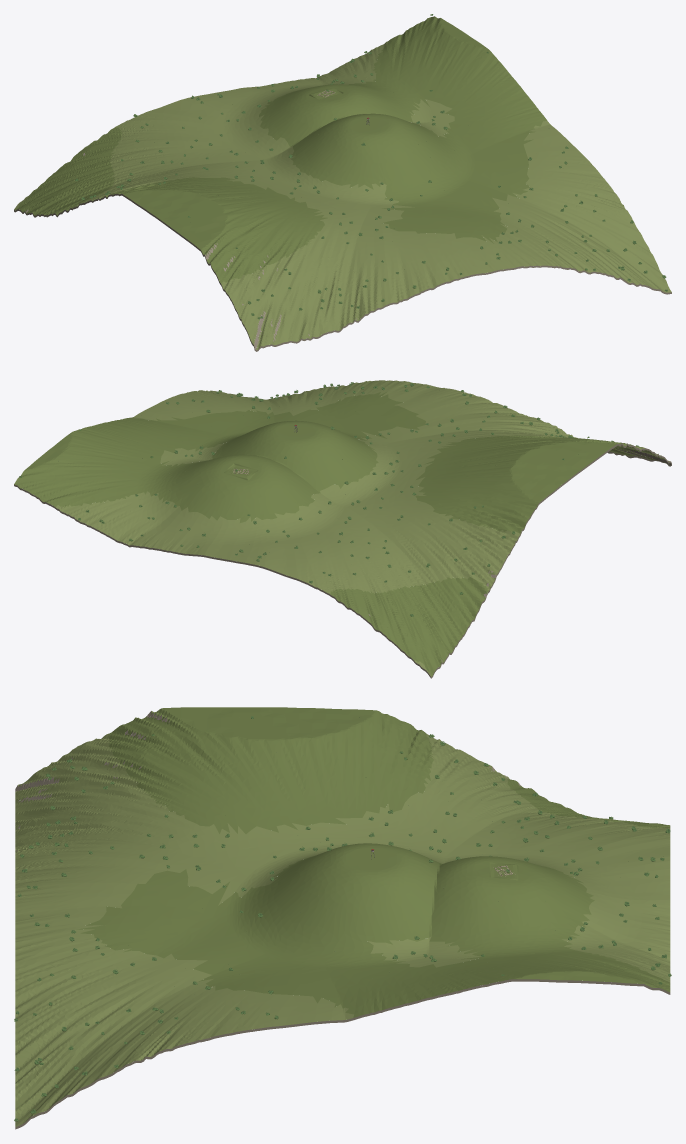
The model's file is parca_+6_-6-yakin.glb.
3 renders of one model, top to bottom at view 1: azimuth 30°, elevation 25°; view 2: azimuth 150°, elevation 25°; view 3: azimuth 270°, elevation 25°, orthographic. The views are drawn at different scales.
Visible parts, largest first — view 1: parca_+6_-6_arazi, parca_+6_-6_bitkiler; view 2: parca_+6_-6_arazi, parca_+6_-6_bitkiler; view 3: parca_+6_-6_arazi, parca_+6_-6_bitkiler.
Boxes of the visible parts, bbox=[...] form: parca_+6_-6_arazi: bbox=[14, 16, 671, 351]; parca_+6_-6_bitkiler: bbox=[27, 14, 667, 319]; parca_+6_-6_arazi: bbox=[14, 380, 671, 678]; parca_+6_-6_bitkiler: bbox=[19, 382, 639, 660]; parca_+6_-6_arazi: bbox=[15, 707, 670, 1129]; parca_+6_-6_bitkiler: bbox=[14, 716, 671, 1121].
Size of the model in its own units: 1002 by 280 by 1005.
